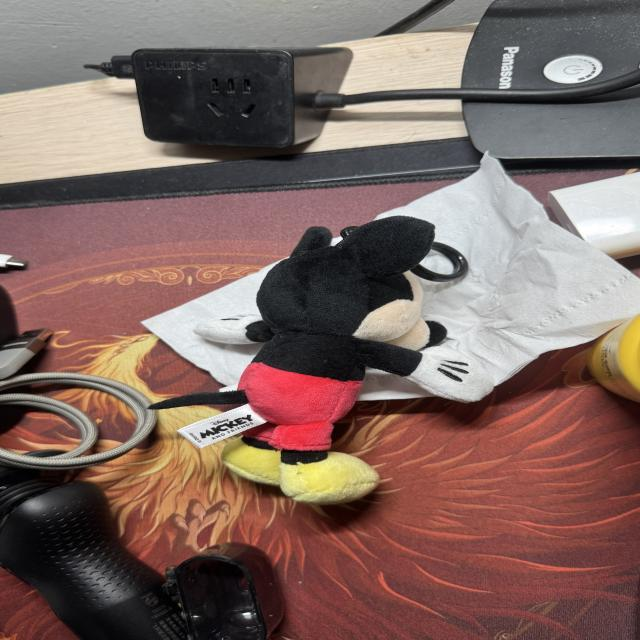mickey: (152, 217, 492, 504)
